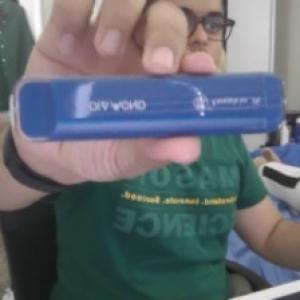Diamond-E-Ciggirate: (4, 71, 289, 146)
